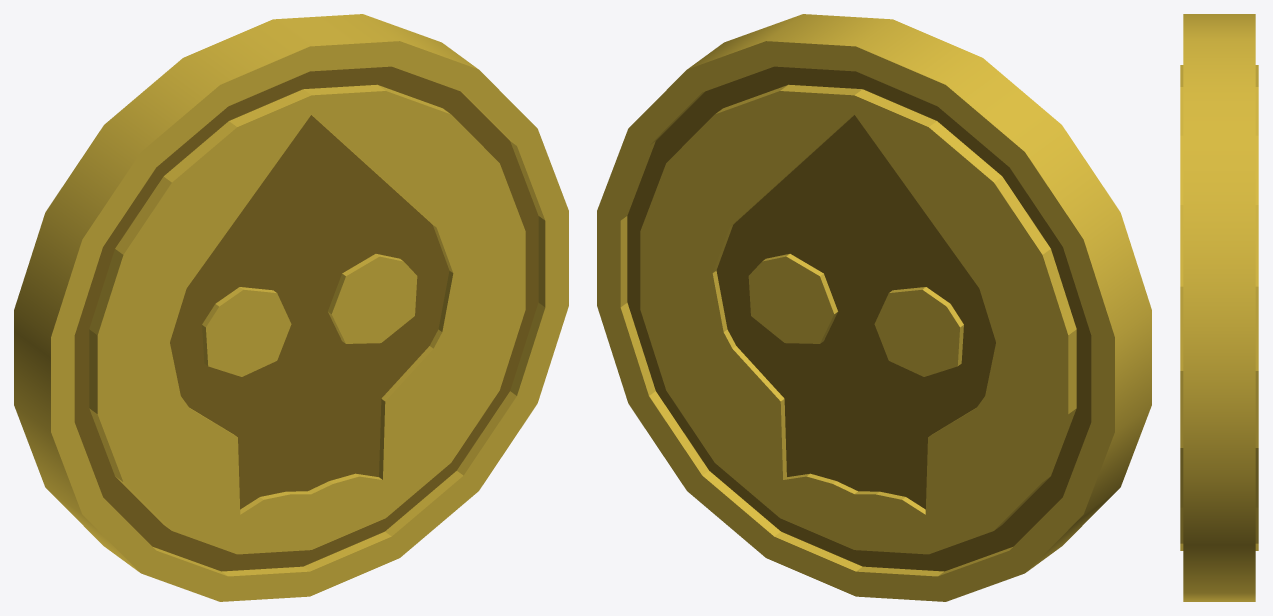
The model's file is Coin.fbx.
3 views of the same model, side by side, from view 1: azimuth 30°, elevation 25°; view 2: azimuth 150°, elevation 25°; view 3: azimuth 270°, elevation 25° (orthographic). The views are drawn at different scales.
Parts seen in each view (by area): view 1: Coin; view 2: Coin; view 3: Coin.
Boxes of the visible parts, x1=… form: Coin: x1=14, y1=14, x2=568, y2=601; Coin: x1=597, y1=14, x2=1151, y2=601; Coin: x1=1180, y1=14, x2=1258, y2=601.
Bounding box in the file's own units: 63.31 × 64.29 × 8.52.
